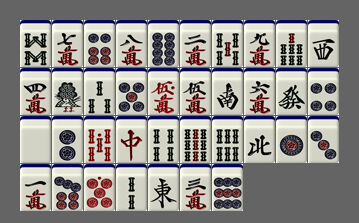0m: (148, 68, 179, 115)
0p: (84, 164, 115, 211)
0s: (84, 116, 115, 163)
1m: (20, 164, 51, 211)
1p: (276, 116, 307, 163)
1s: (52, 68, 83, 115)
1z: (148, 164, 179, 211)
2m: (180, 20, 211, 67)
2p: (52, 116, 83, 163)
2s: (116, 164, 147, 211)
2z: (212, 68, 243, 115)
3m: (180, 164, 211, 211)
3p: (308, 116, 339, 163)
3s: (84, 68, 115, 115)
3z: (308, 20, 339, 67)
4m: (20, 68, 51, 115)
4p: (308, 68, 339, 115)
4s: (148, 116, 179, 163)
4z: (244, 116, 275, 163)
5m: (180, 68, 211, 115)
5p: (116, 68, 147, 115)
5s: (212, 20, 243, 67)
5z: (20, 116, 51, 163)
6m: (244, 68, 275, 115)
6p: (84, 20, 115, 67)
6s: (212, 116, 243, 163)
6z: (276, 68, 307, 115)
7m: (52, 20, 83, 67)
7p: (52, 164, 83, 211)
7s: (276, 20, 307, 67)
7z: (116, 116, 147, 163)
8m: (116, 20, 147, 67)
8p: (148, 20, 179, 67)
8s: (20, 20, 51, 67)
9m: (244, 20, 275, 67)
9p: (212, 164, 243, 211)
9s: (180, 116, 211, 163)
